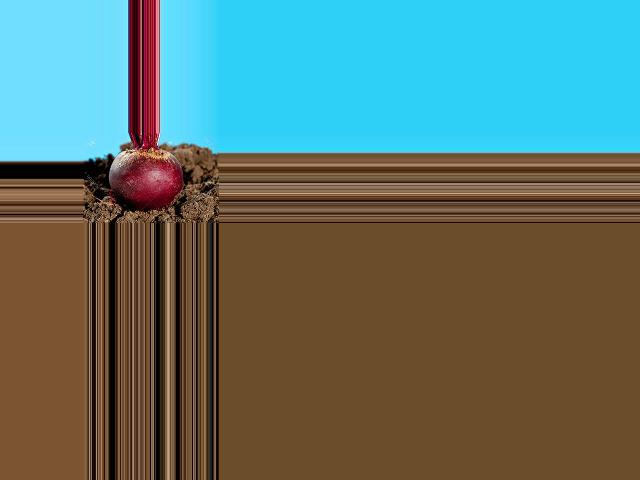beet: (108, 132, 182, 210)
